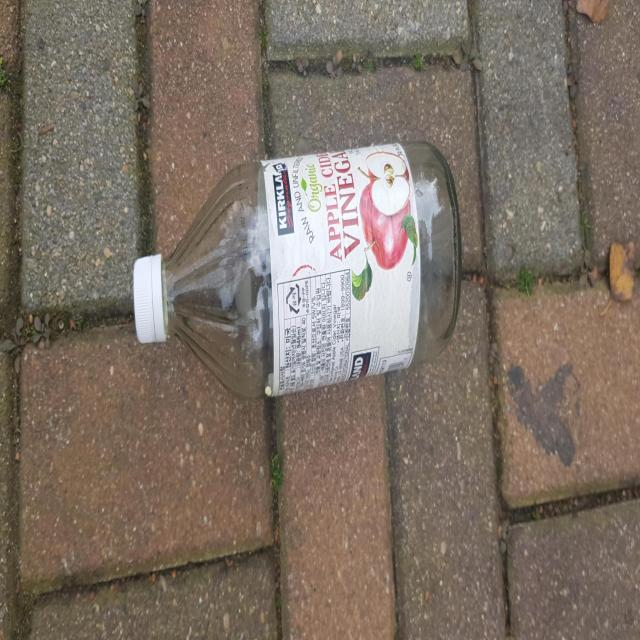glass: (133, 140, 462, 397)
